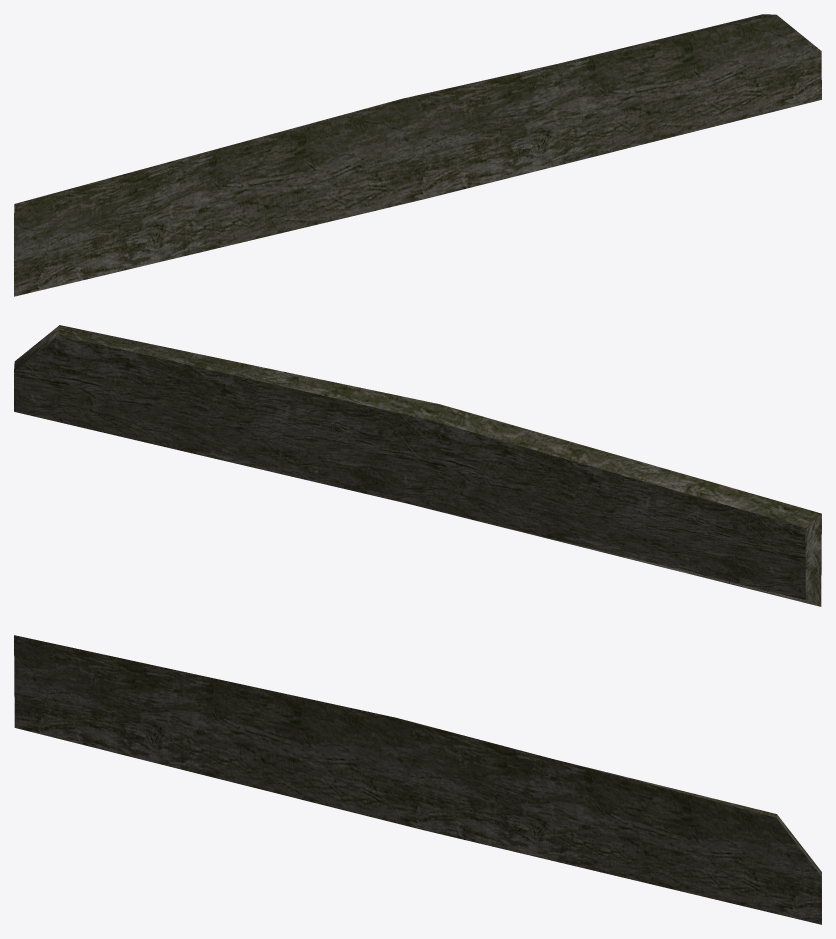
Rendered from TI_Plank_01.fbx.
The picture shows the model from 3 angles, top to bottom: view 1: azimuth 30°, elevation 25°; view 2: azimuth 150°, elevation 25°; view 3: azimuth 330°, elevation 25°; orthographic projection.
Visible parts, largest first — view 1: TI_Plank_01; view 2: TI_Plank_01; view 3: TI_Plank_01.
Boxes of the visible parts, <box> form: TI_Plank_01: <box>14,14,821,296</box>; TI_Plank_01: <box>14,325,821,606</box>; TI_Plank_01: <box>14,635,821,924</box>.
Bounding box in the file's own units: 3.86 × 0.4865 × 0.09.
